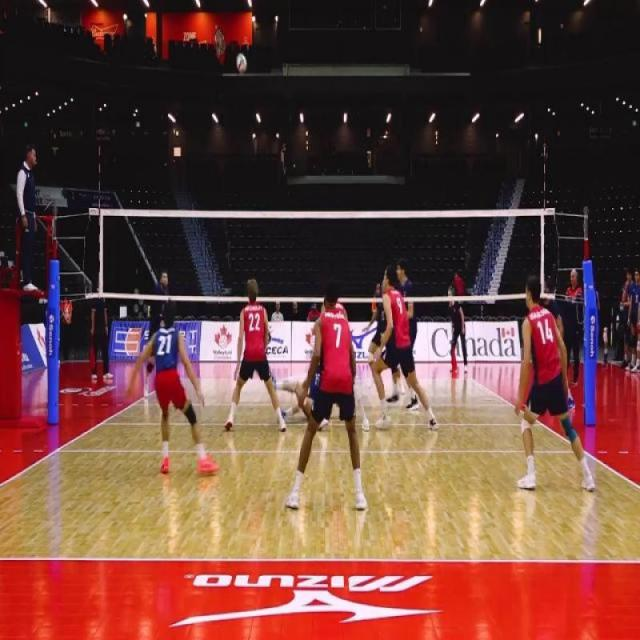volleyball: (235, 52, 248, 72)
